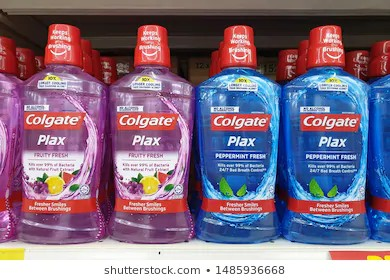colgate-Plax: (13, 18, 105, 241), (283, 18, 371, 246), (105, 23, 194, 246), (196, 20, 284, 245)
